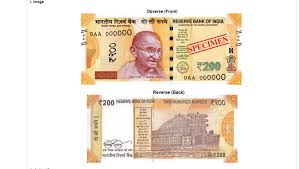twoHundred: (88, 25, 230, 76)
